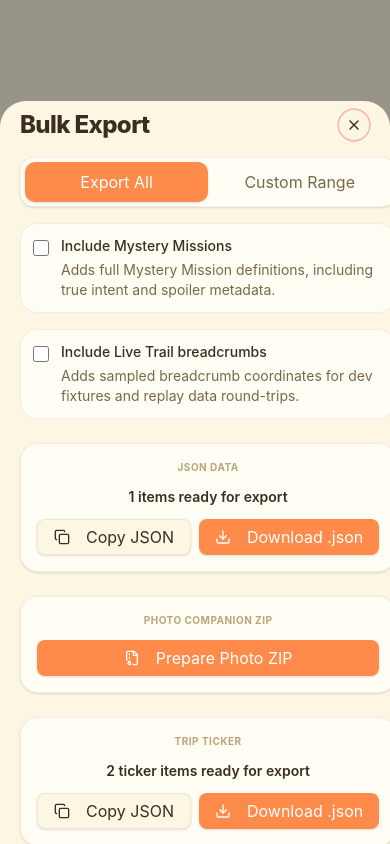
Test case: BulkExportSheet › shows a checking state while the breadcrumb count is loading
What coordinates should you click on to do the following:
click the checkbox labelled "Include Live Trail breadcrumbs"
I would click on:
 (41, 354)
Its box is [33, 346, 49, 362].
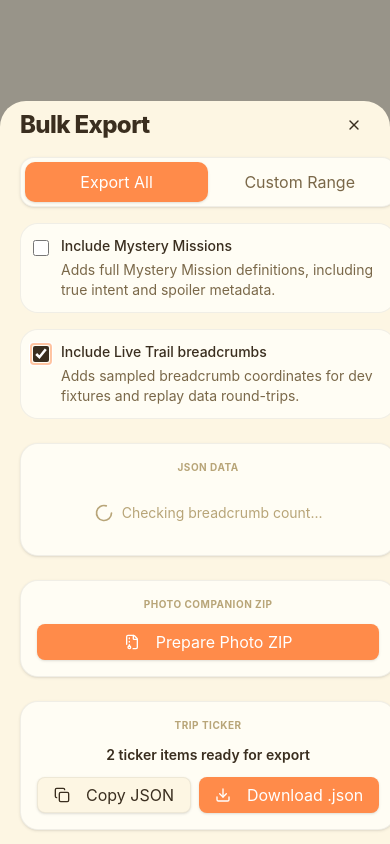
Check: the text "Checking breadcrumb count..." is shown, box [122, 503, 322, 523]
